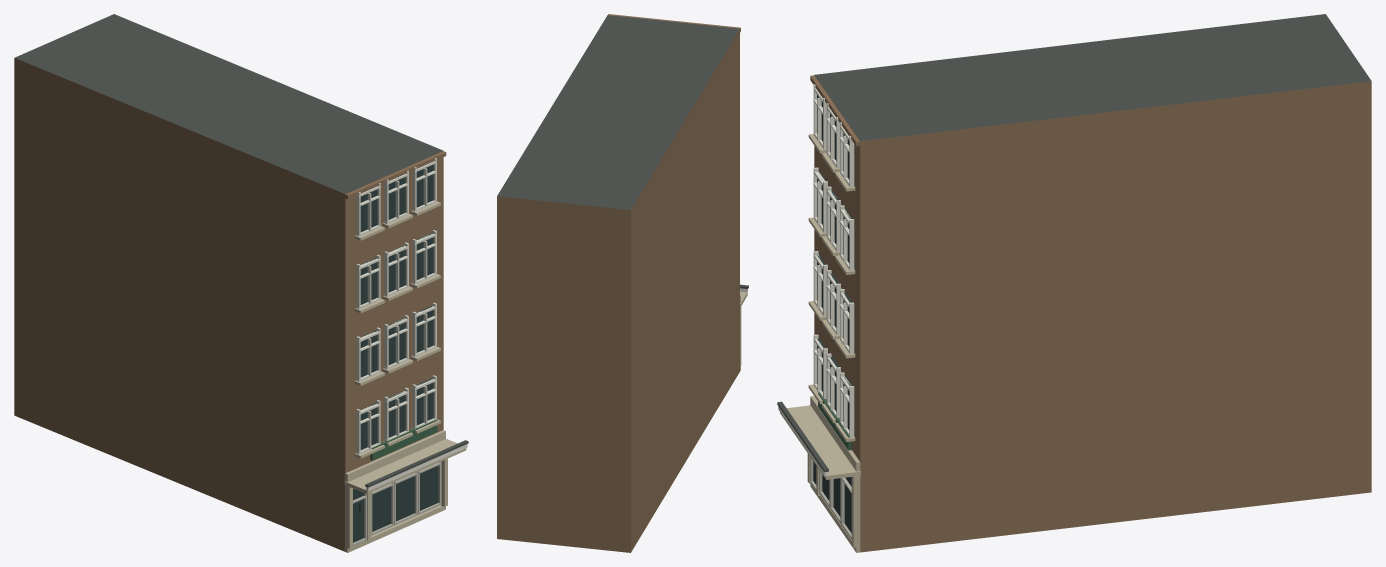
3 renders of one model, left to right at view 1: azimuth 30°, elevation 25°; view 2: azimuth 150°, elevation 25°; view 3: azimuth 270°, elevation 25°, orthographic. The views are drawn at different scales.
Parts seen in each view (by area): view 1: jan-evertsen-native-0363100012118917; view 2: jan-evertsen-native-0363100012118917; view 3: jan-evertsen-native-0363100012118917.
Part boxes in pixels (box(x1,y1,x2,y2)): jan-evertsen-native-0363100012118917: box(14, 14, 468, 552); jan-evertsen-native-0363100012118917: box(497, 14, 748, 552); jan-evertsen-native-0363100012118917: box(777, 14, 1371, 552).
Size of the model in its own units: 11.39 by 16.5 by 21.61.
